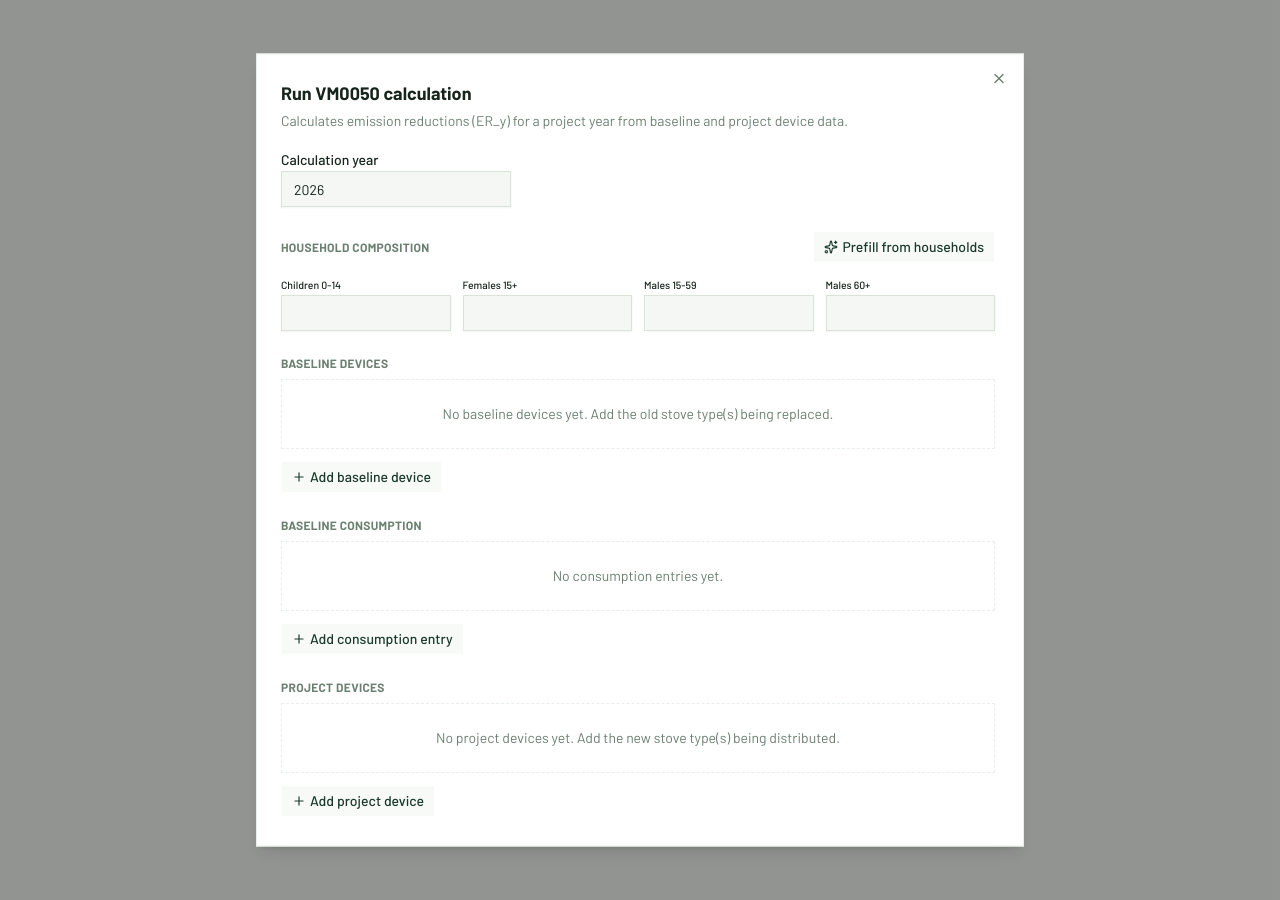
Test case: CalculationFormDialog › sums household composition across the project's households on prefill
This screenshot has width=1280, height=900.
Click the button "Prefill from households" at [904, 246], box [813,230,995,262]
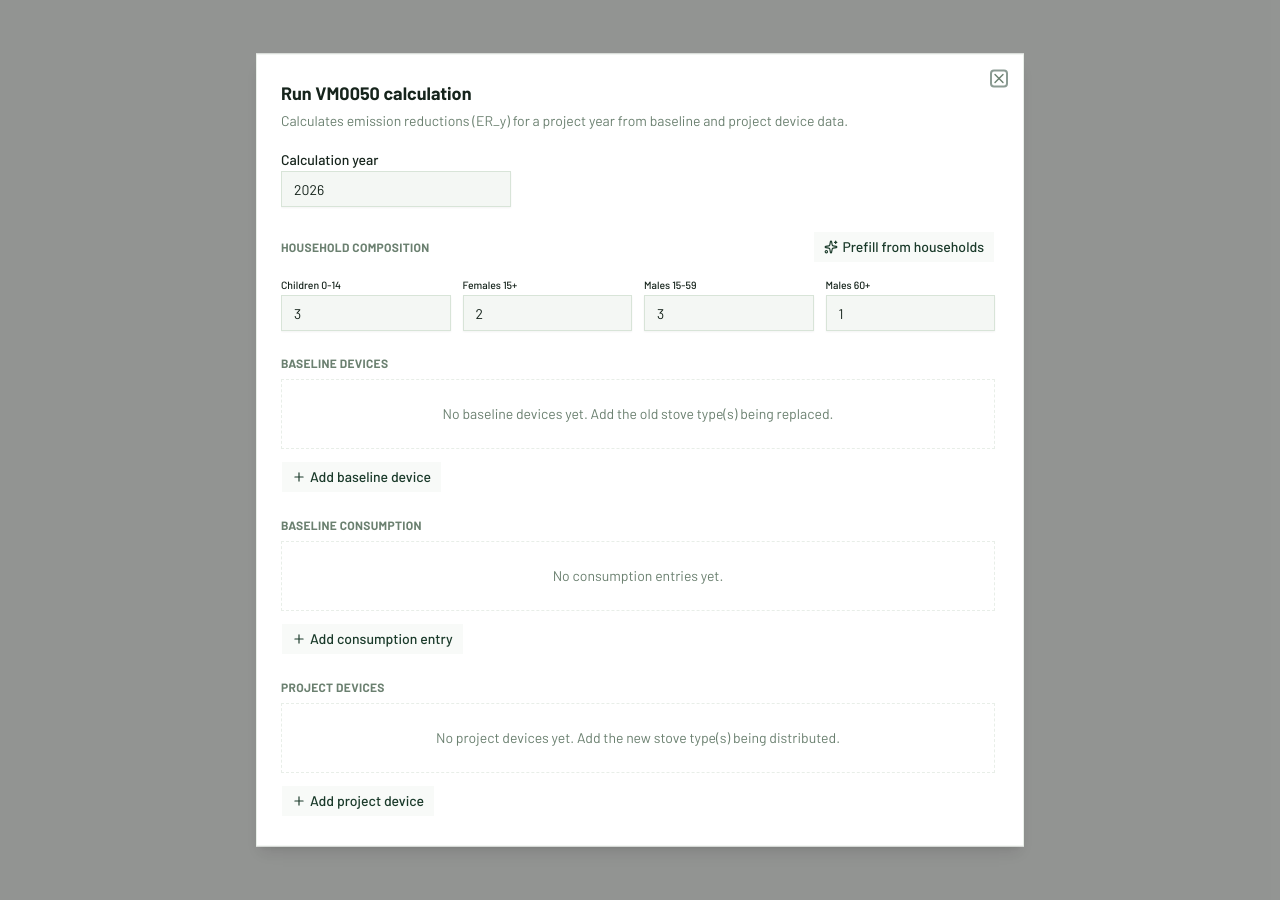
Now the number field labelled "Children 0-14" holds "3", box [281,294,450,330]
Now the number field labelled "Females 15+" holds "2", box [462,294,632,330]
Now the number field labelled "Males 15-59" holds "3", box [644,294,814,330]
